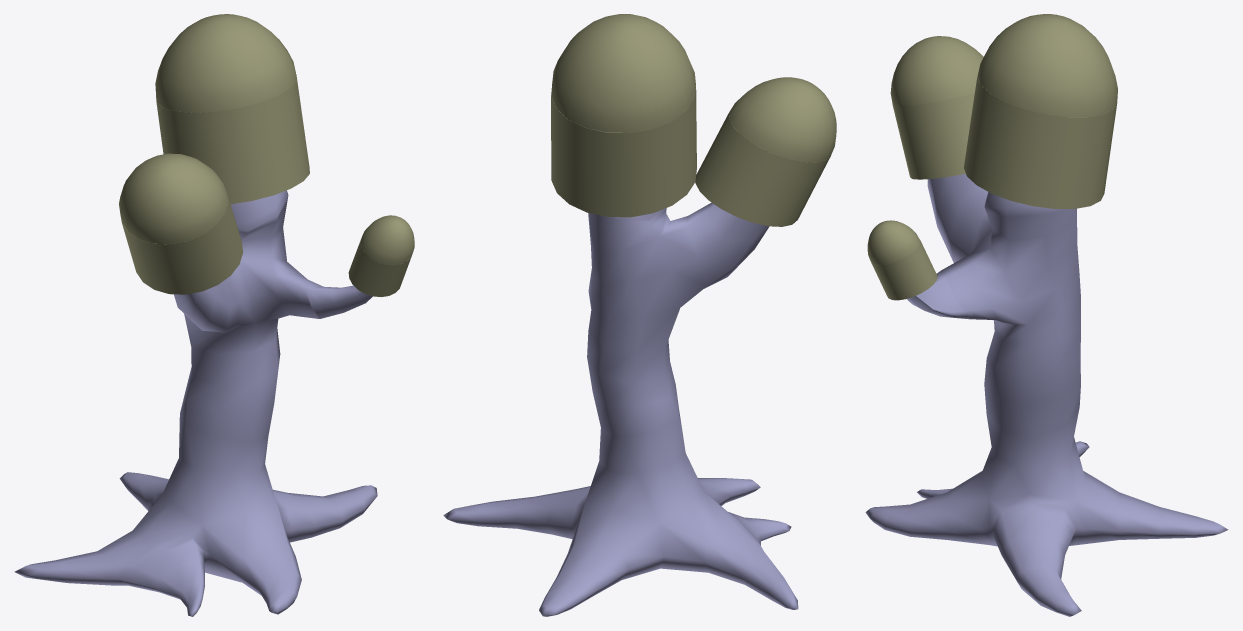
File: tree2.fbx
3 views of the same model, side by side, from view 1: azimuth 30°, elevation 25°; view 2: azimuth 150°, elevation 25°; view 3: azimuth 270°, elevation 25° (orthographic). The views are drawn at different scales.
Parts seen in each view (by area): view 1: tree1b:pasted__pasted__pasted__pasted__pSphere2; view 2: tree1b:pasted__pasted__pasted__pasted__pSphere2; view 3: tree1b:pasted__pasted__pasted__pasted__pSphere2.
Part boxes in pixels (x1,y1,x2,y2): tree1b:pasted__pasted__pasted__pasted__pSphere2: [14, 14, 414, 616]; tree1b:pasted__pasted__pasted__pasted__pSphere2: [443, 14, 836, 616]; tree1b:pasted__pasted__pasted__pasted__pSphere2: [865, 14, 1228, 616].
Size of the model in its own units: 24.66 by 34.91 by 21.92.
